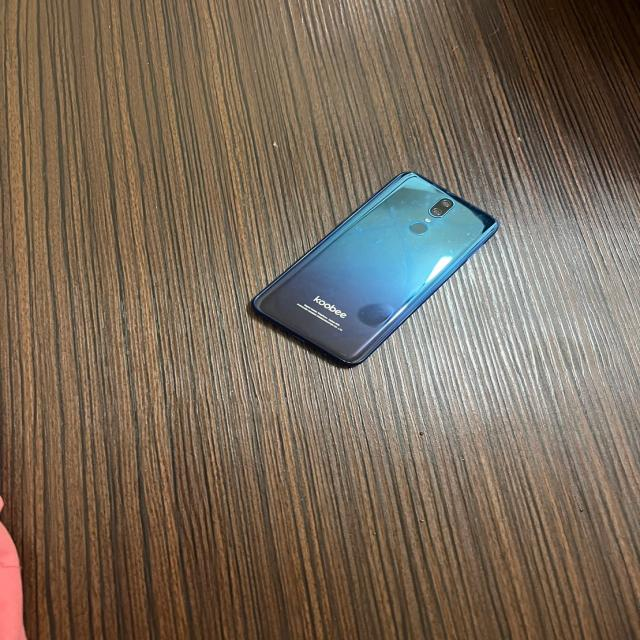Smartphone: (216, 155, 527, 397)
